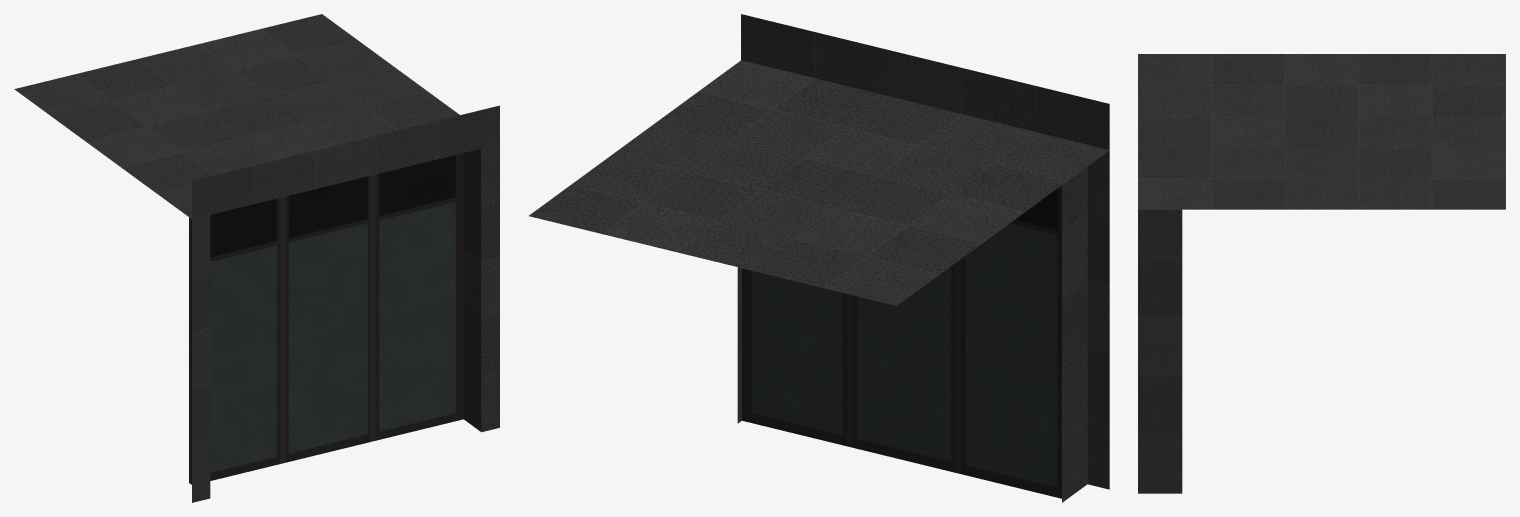
The model's file is ground_floor_middle.glb.
The picture shows the model from 3 angles, left to right: view 1: azimuth 30°, elevation 25°; view 2: azimuth 150°, elevation 25°; view 3: azimuth 270°, elevation 25°; orthographic projection. The views are drawn at different scales.
Visible parts, largest first — view 1: Glass 1, Entablature, Column 2, Column 1; view 2: Entablature, Glass 1, Column 1, Column 2; view 3: Entablature, Column 2.
Boxes of the visible parts, x1,y1,x2,y2 form: Glass 1: (210, 153, 463, 480); Entablature: (14, 14, 499, 219); Column 2: (463, 144, 499, 432); Column 1: (189, 215, 210, 502); Entablature: (529, 14, 1109, 305); Glass 1: (742, 185, 1061, 498); Column 1: (1062, 150, 1109, 502); Column 2: (737, 267, 741, 423); Entablature: (1138, 54, 1505, 209); Column 2: (1138, 209, 1182, 493).
Bounding box in the file's own units: 5 × 5 × 5.
2 materials, 2 textured.
